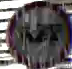Heavy Vehicles: (7, 1, 71, 68)
